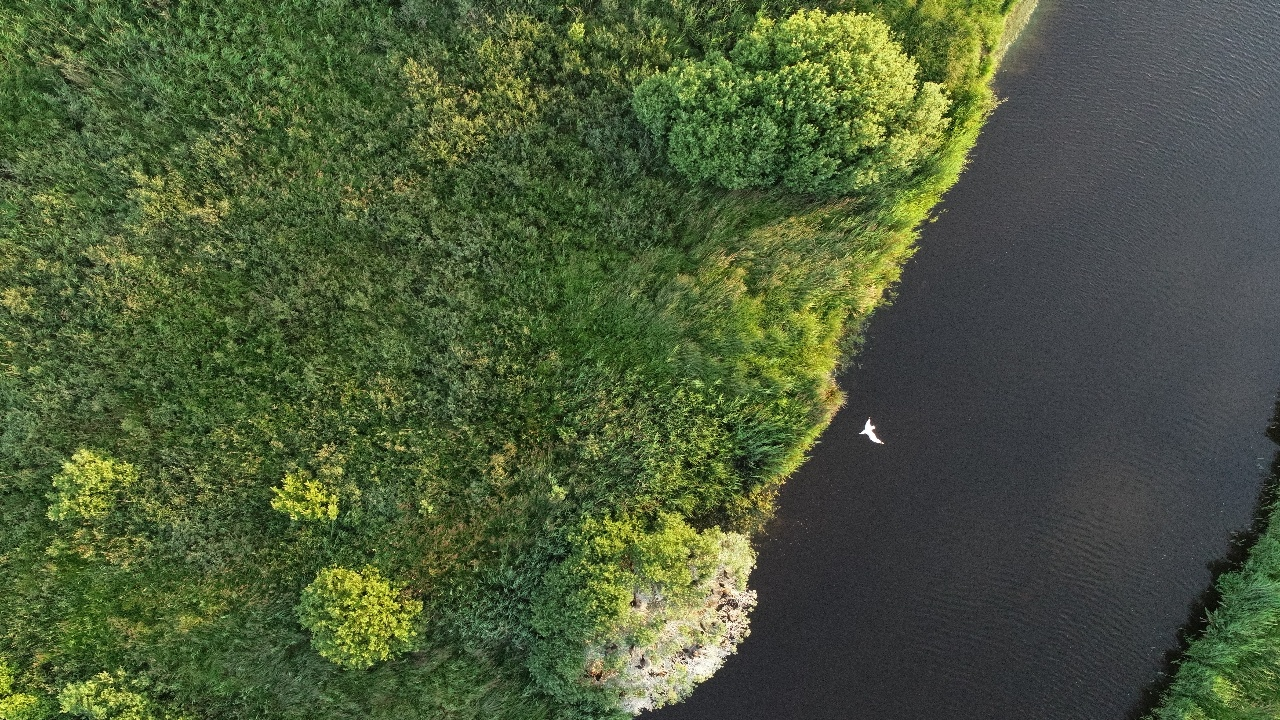Bird: (851, 412, 893, 455)
